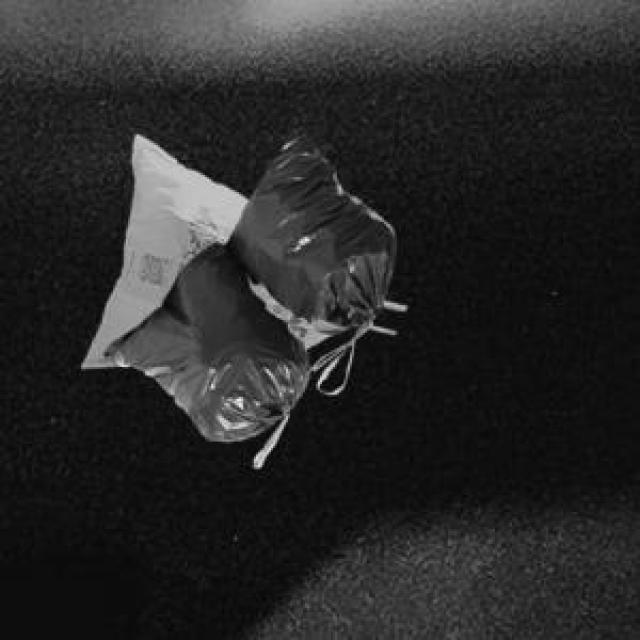miscellaneous trash: (100, 124, 393, 463)
